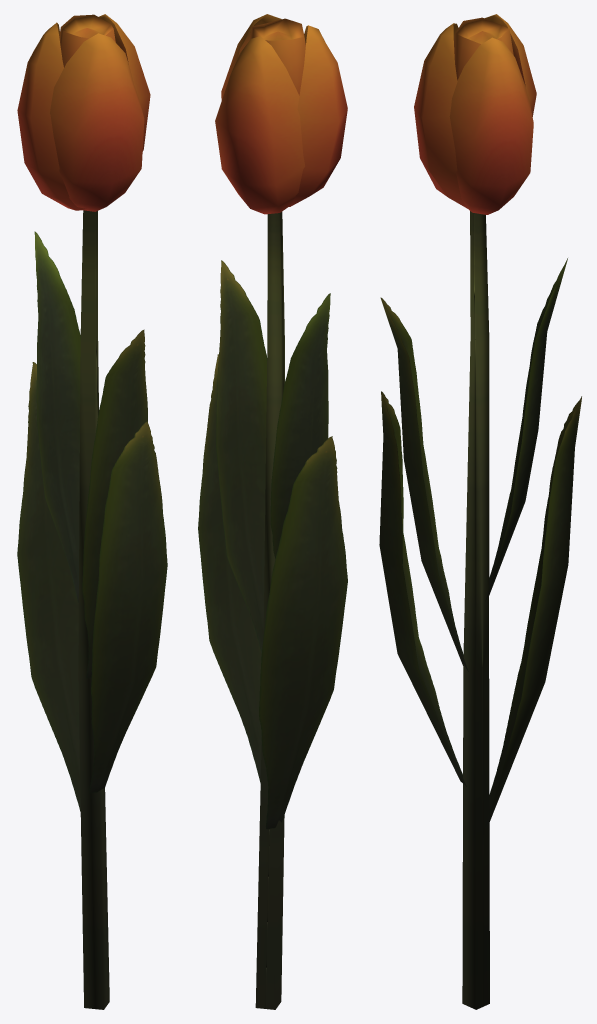
The model's file is Flower_B01.fbx.
The picture shows the model from 3 angles, left to right: view 1: azimuth 30°, elevation 25°; view 2: azimuth 210°, elevation 25°; view 3: azimuth 270°, elevation 25°; orthographic projection.
Parts seen in each view (by area): view 1: Flower_B01; view 2: Flower_B01; view 3: Flower_B01.
Boxes of the visible parts, left/top/right/bottom form: Flower_B01: left=17, top=14, right=167, bottom=1009; Flower_B01: left=198, top=14, right=347, bottom=1009; Flower_B01: left=379, top=14, right=581, bottom=1009.
Size of the model in its own units: 4.77 by 37.82 by 7.15.
